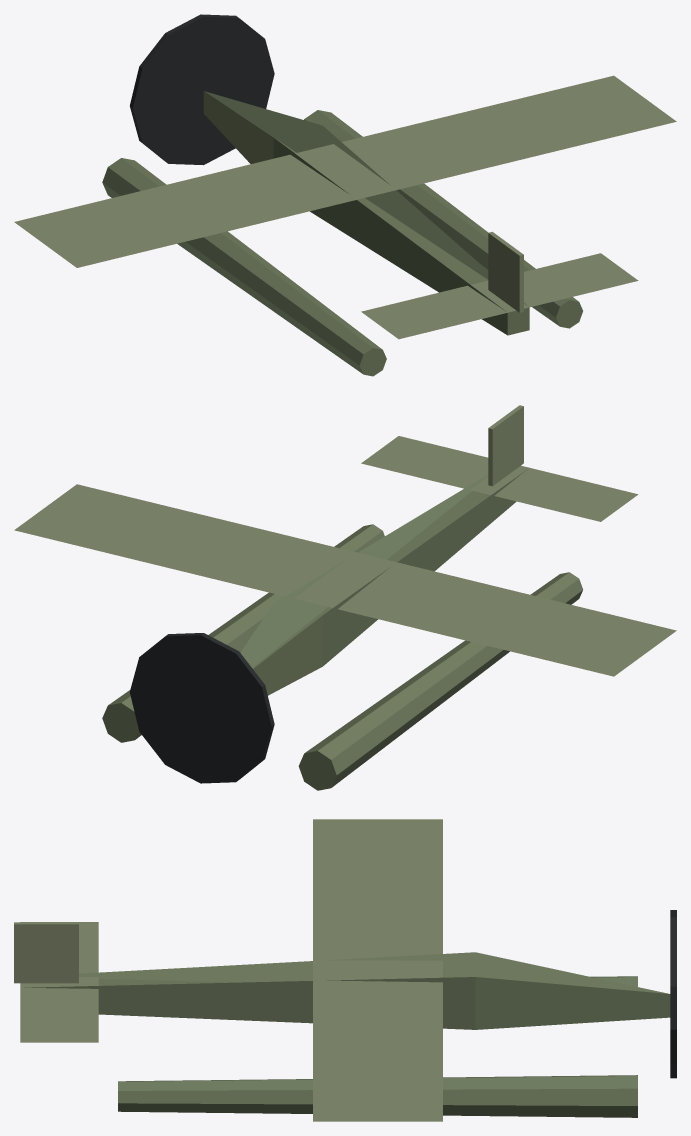
File: plane_jp_float.glb
3 views of the same model, one above another, from view 1: azimuth 30°, elevation 25°; view 2: azimuth 150°, elevation 25°; view 3: azimuth 270°, elevation 25° (orthographic). The views are drawn at different scales.
Visible parts, largest first — view 1: Hull; view 2: Hull; view 3: Hull.
Boxes of the visible parts, x1,y1,x2,y2 form: Hull: (14, 14, 676, 376); Hull: (14, 405, 676, 790); Hull: (14, 819, 676, 1121).
Bounding box in the file's own units: 11 × 2.6 × 10.2.
